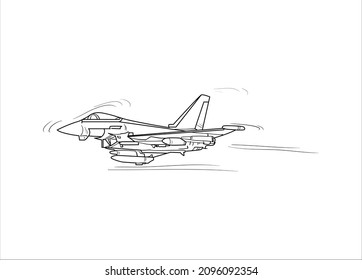airplane: (56, 93, 248, 167)
